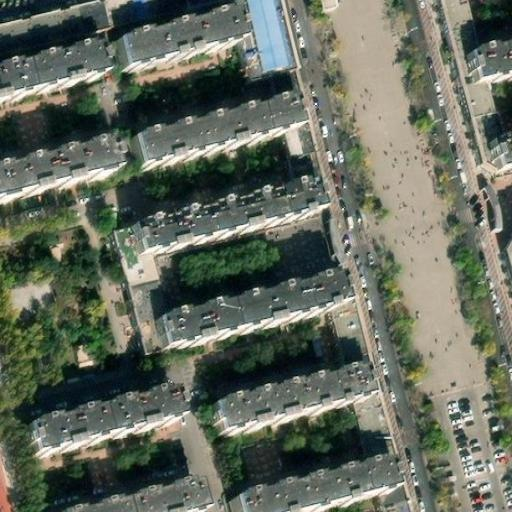building: (326, 268, 409, 512), (150, 268, 339, 347), (131, 178, 321, 253), (126, 99, 297, 174), (202, 369, 363, 440), (440, 0, 505, 165), (225, 461, 391, 512), (112, 11, 239, 75), (0, 141, 110, 204), (274, 89, 329, 202), (16, 44, 99, 94), (97, 394, 179, 442), (24, 413, 104, 460), (115, 226, 157, 286), (129, 282, 162, 353), (466, 39, 512, 82), (238, 437, 282, 481), (117, 488, 197, 512), (0, 445, 21, 511), (486, 131, 512, 169), (0, 63, 23, 101)
